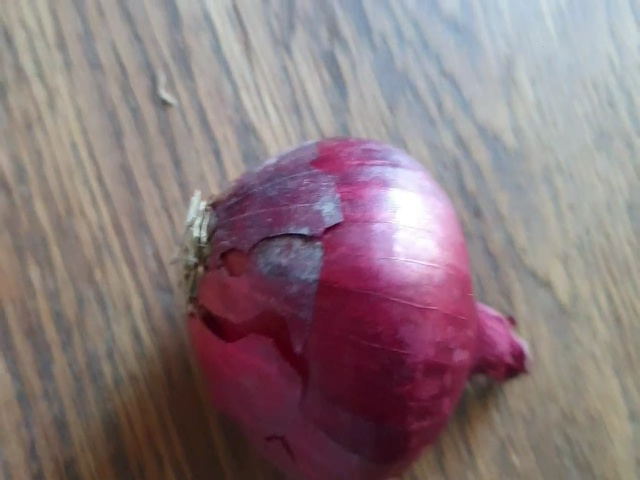red_onion: (168, 120, 534, 476)
